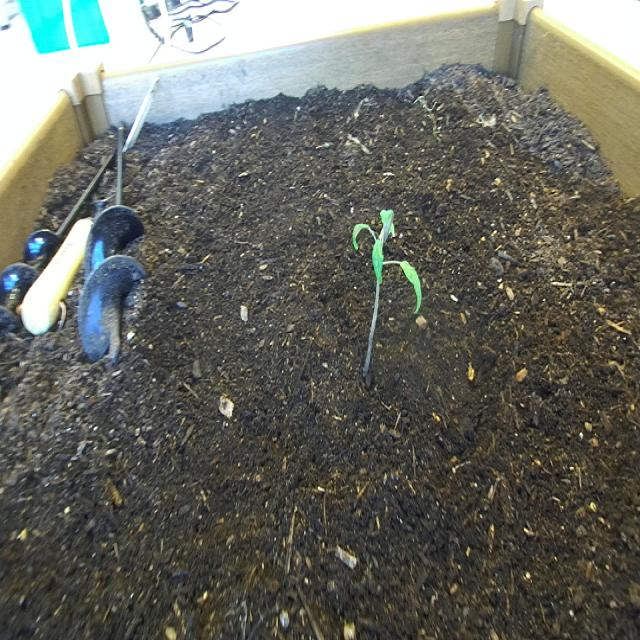Healthy: (348, 202, 427, 388)
